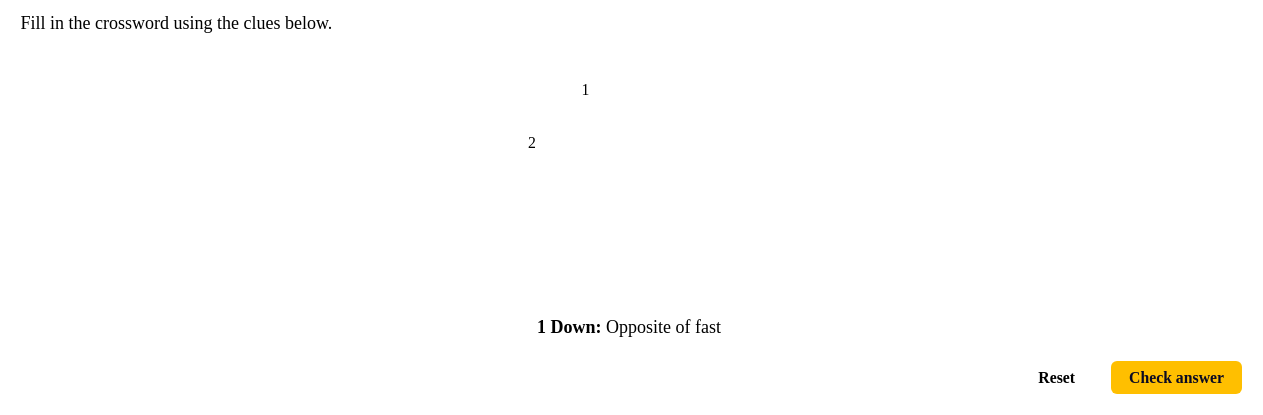
Test: Crossword › shows unanswered feedback when checking without filling every cell
Step 1. Click the button "Check answer" → (1177, 377), box [1111,361,1242,394]
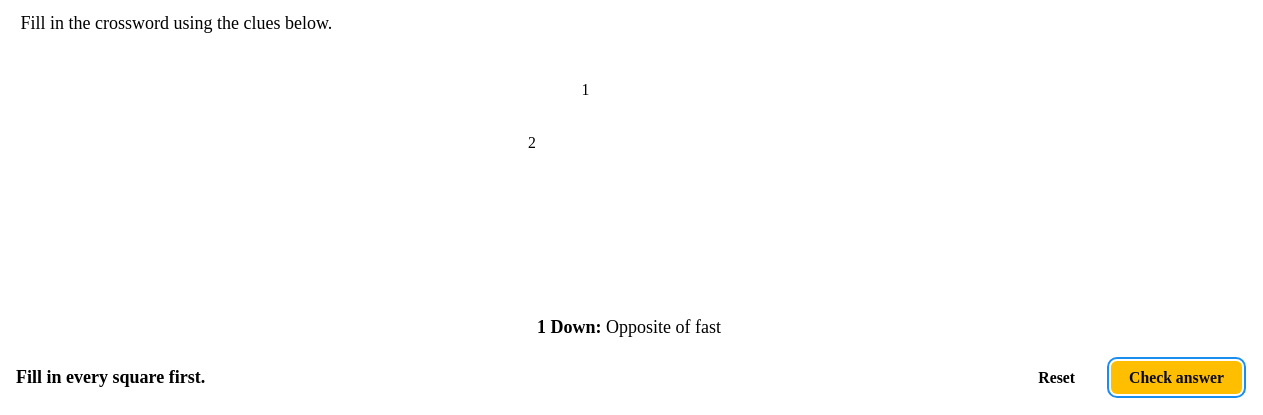
Now the text "Fill in every square first." is shown, box [16,367,205,387]
